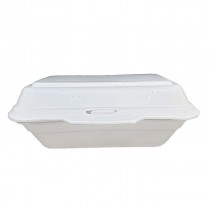Foam Box: (5, 72, 201, 152)
